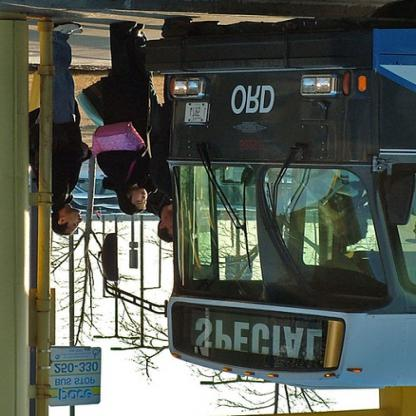bus: (146, 2, 416, 395)
person: (98, 22, 149, 216), (52, 24, 91, 237), (149, 77, 177, 245)
